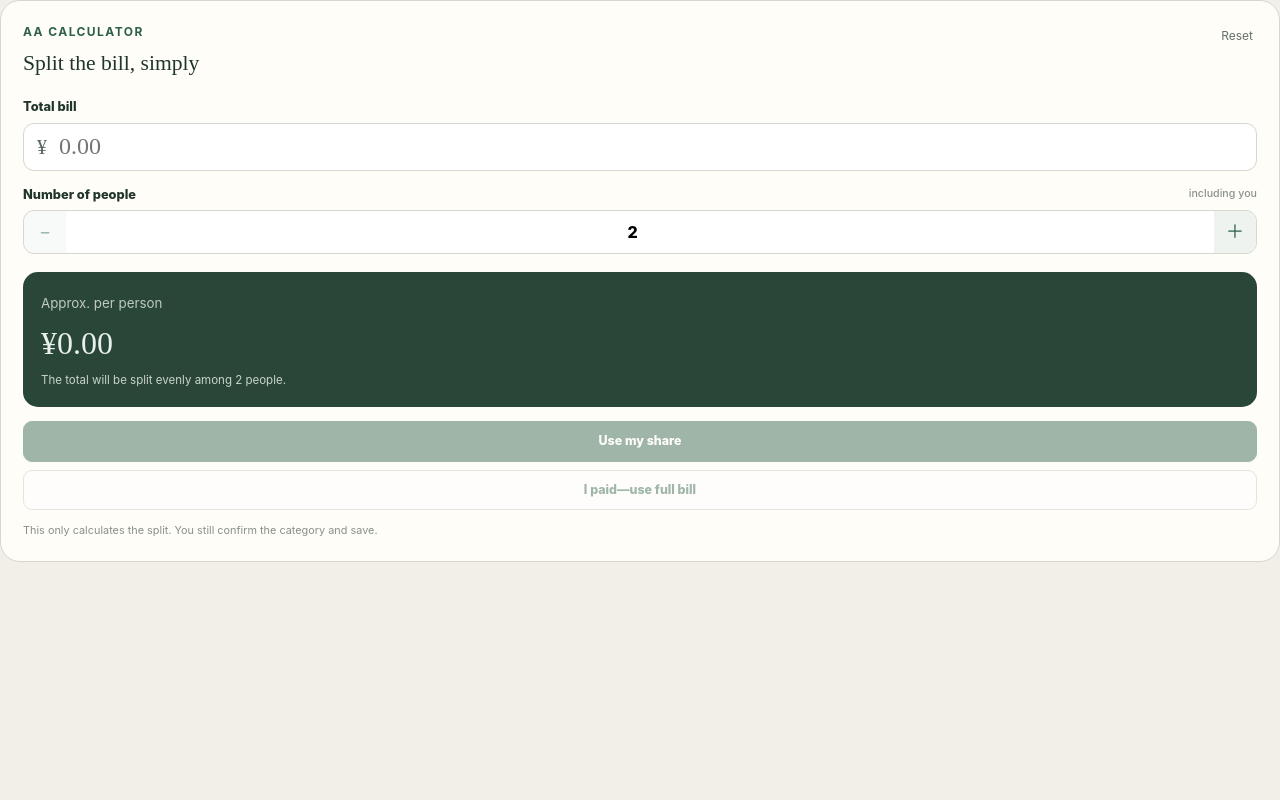
Test case: SplitCalculator › 根据总金额和人数计算每人份额
Type "300" into the number field with id "split-total" at x=652, y=147, box [47,124,1256,170]
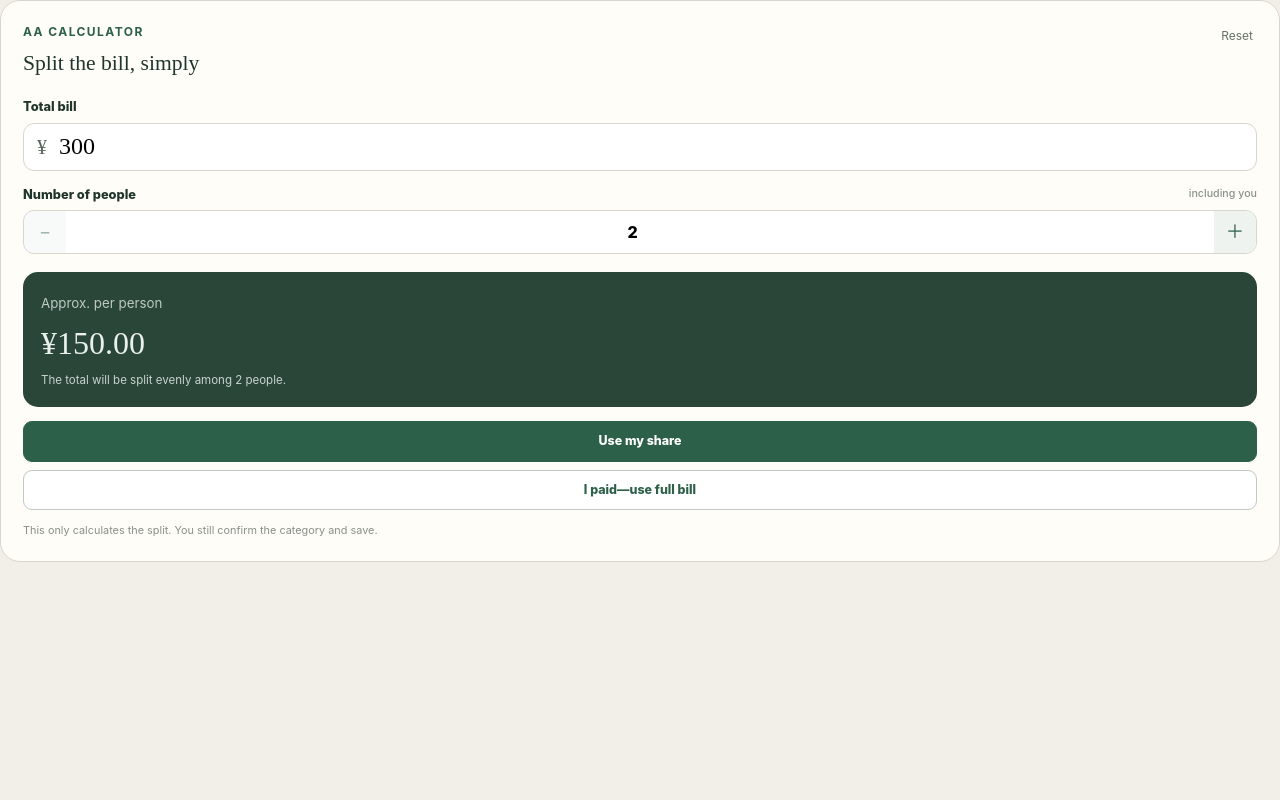
Replace the text in the number field with id "split-people" with "3" at x=640, y=232, box [66,211,1214,253]
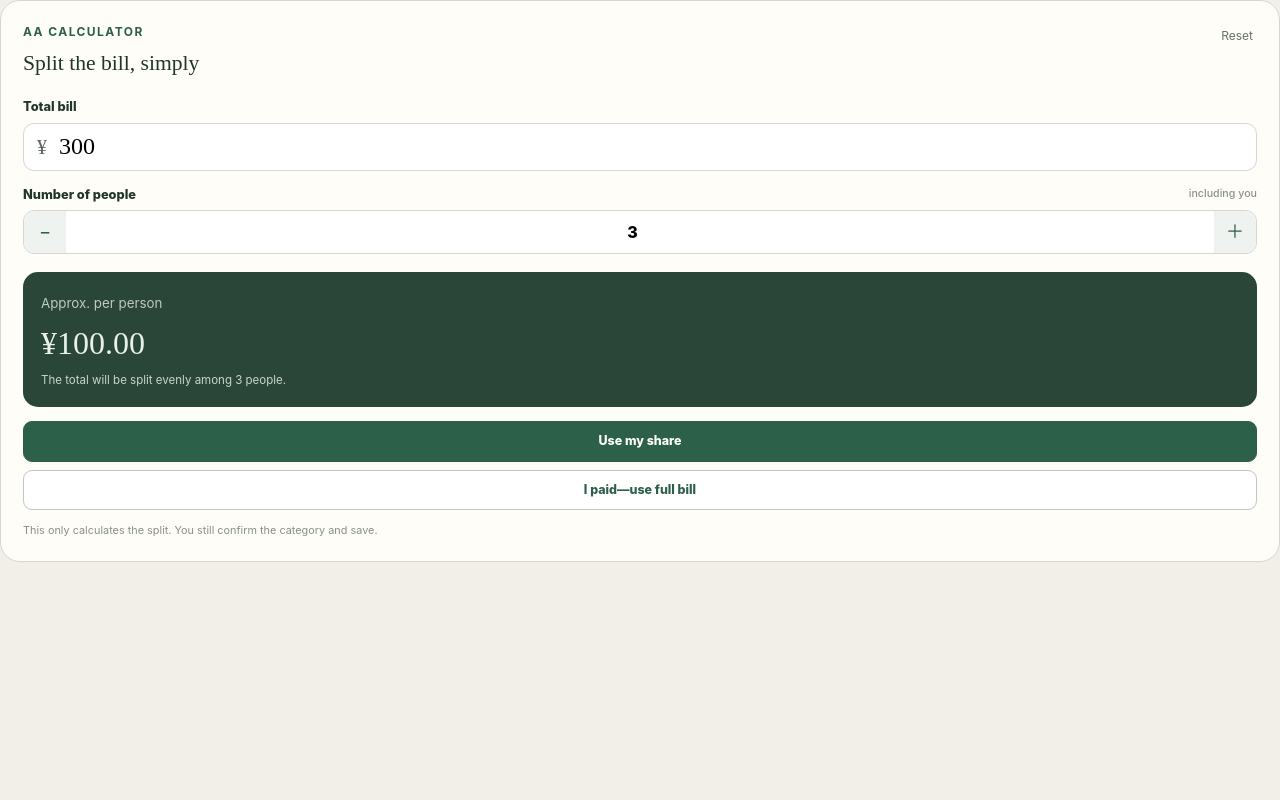
Result: the text "¥100.00" is shown at [41,325,145,361]
